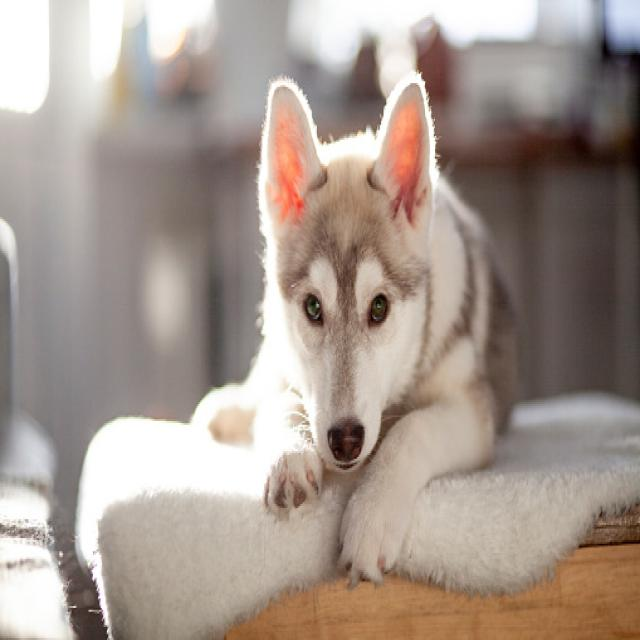husky: (229, 39, 459, 480)
